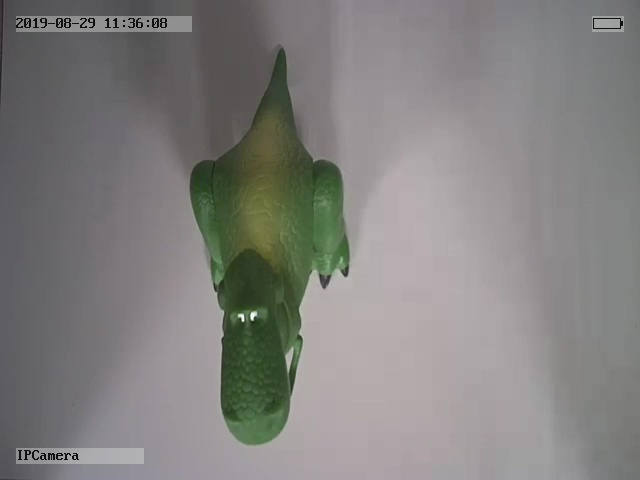rex: (190, 47, 351, 448)
